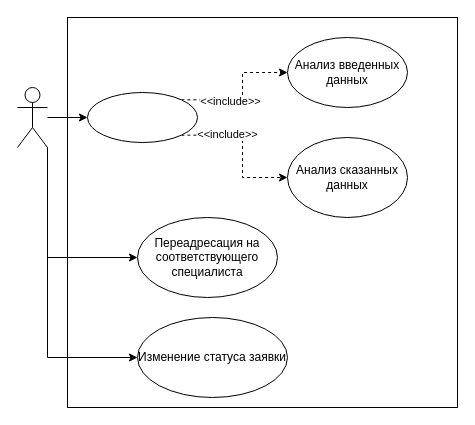
Image size: 475x425. Some labels were removed from this diagram. Each missing label, with the centre of its shape:
"Выявление проблемы" belongs at point 142,117.
"ИИ" belongs at point 32,117.
